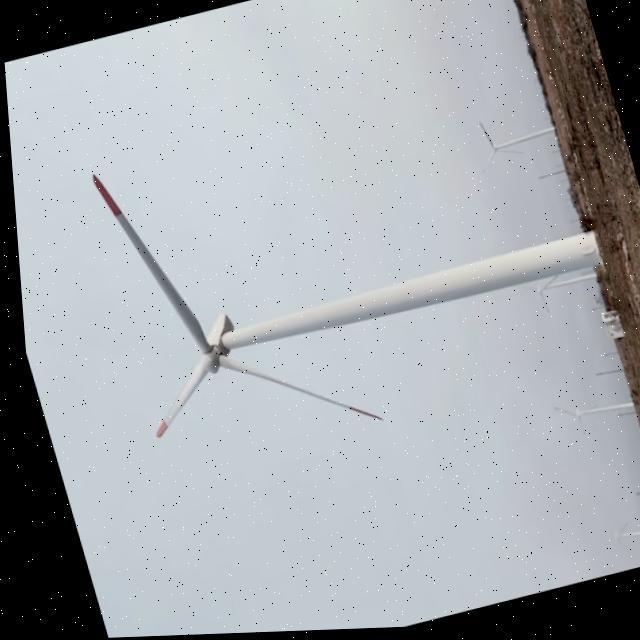solid-blade: (90, 174, 204, 353), (212, 357, 375, 422), (149, 359, 201, 436)
wind-turbine: (90, 177, 595, 437)
